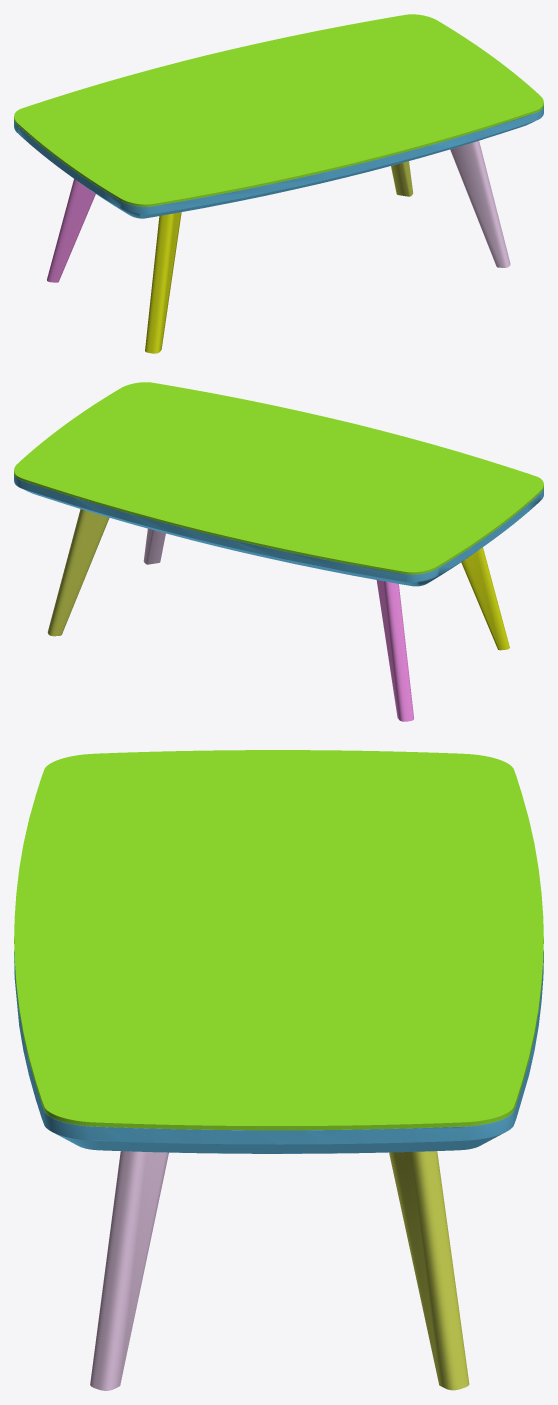
3 views of the same model, one above another, from view 1: azimuth 30°, elevation 25°; view 2: azimuth 150°, elevation 25°; view 3: azimuth 270°, elevation 25° (orthographic). The views are drawn at different scales.
Parts seen in each view (by area): view 1: Object003_Material #94_0, Object002_Material #27_0.062, Object002_Material #27_0.024, Object002_Material #27_0.008, Object002_Material #27_0, Object002_Material #27_0.016; view 2: Object003_Material #94_0, Object002_Material #27_0.062, Object002_Material #27_0.016, Object002_Material #27_0, Object002_Material #27_0.008, Object002_Material #27_0.024; view 3: Object003_Material #94_0, Object002_Material #27_0.062, Object002_Material #27_0.024, Object002_Material #27_0.016.
Part boxes in pixels (left/top/right/bottom): Object003_Material #94_0: left=14, top=14, right=543, bottom=206; Object002_Material #27_0.062: left=14, top=106, right=543, bottom=218; Object002_Material #27_0.024: left=450, top=141, right=510, bottom=267; Object002_Material #27_0.008: left=145, top=212, right=181, bottom=353; Object002_Material #27_0: left=47, top=179, right=95, bottom=282; Object002_Material #27_0.016: left=391, top=161, right=413, bottom=196; Object003_Material #94_0: left=14, top=382, right=543, bottom=574; Object002_Material #27_0.062: left=14, top=474, right=543, bottom=586; Object002_Material #27_0.016: left=47, top=509, right=109, bottom=636; Object002_Material #27_0: left=376, top=580, right=413, bottom=721; Object002_Material #27_0.008: left=461, top=547, right=509, bottom=650; Object002_Material #27_0.024: left=143, top=528, right=165, bottom=564; Object003_Material #94_0: left=14, top=750, right=543, bottom=1130; Object002_Material #27_0.062: left=14, top=950, right=543, bottom=1153; Object002_Material #27_0.024: left=90, top=1151, right=168, bottom=1390; Object002_Material #27_0.016: left=389, top=1151, right=469, bottom=1390.
Bounding box in the file's own units: 1 × 0.3626 × 0.5955.
